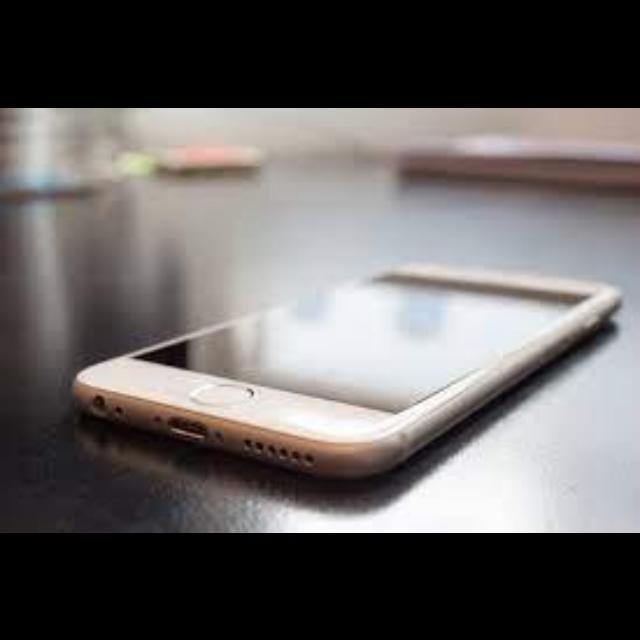phone: (74, 221, 620, 501)
